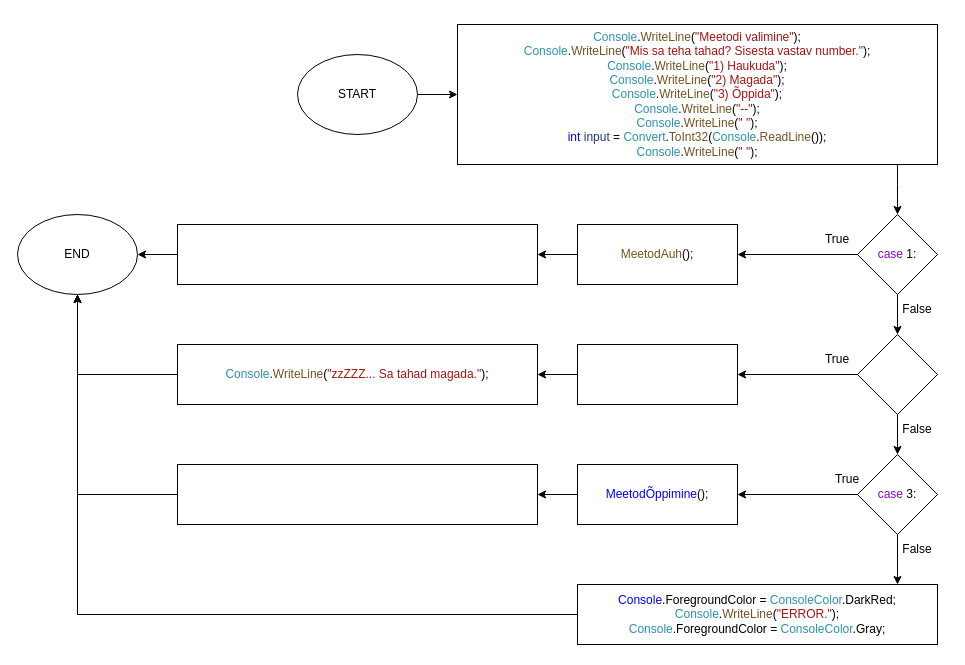
The diagram is 965 pixels wide and 665 high, and some of its shapes have lost their labels. Here are the shapes that lost their labels. From the top down, the centre of each, then its label:
point (357, 254): Console . WriteLine ( "Auh! Sa tahad haukuda!!" );
point (657, 374): MeetodMagamine ();
point (897, 374): case 2:
point (357, 494): Console . WriteLine ( "..? Sa tahad õppida?" );
